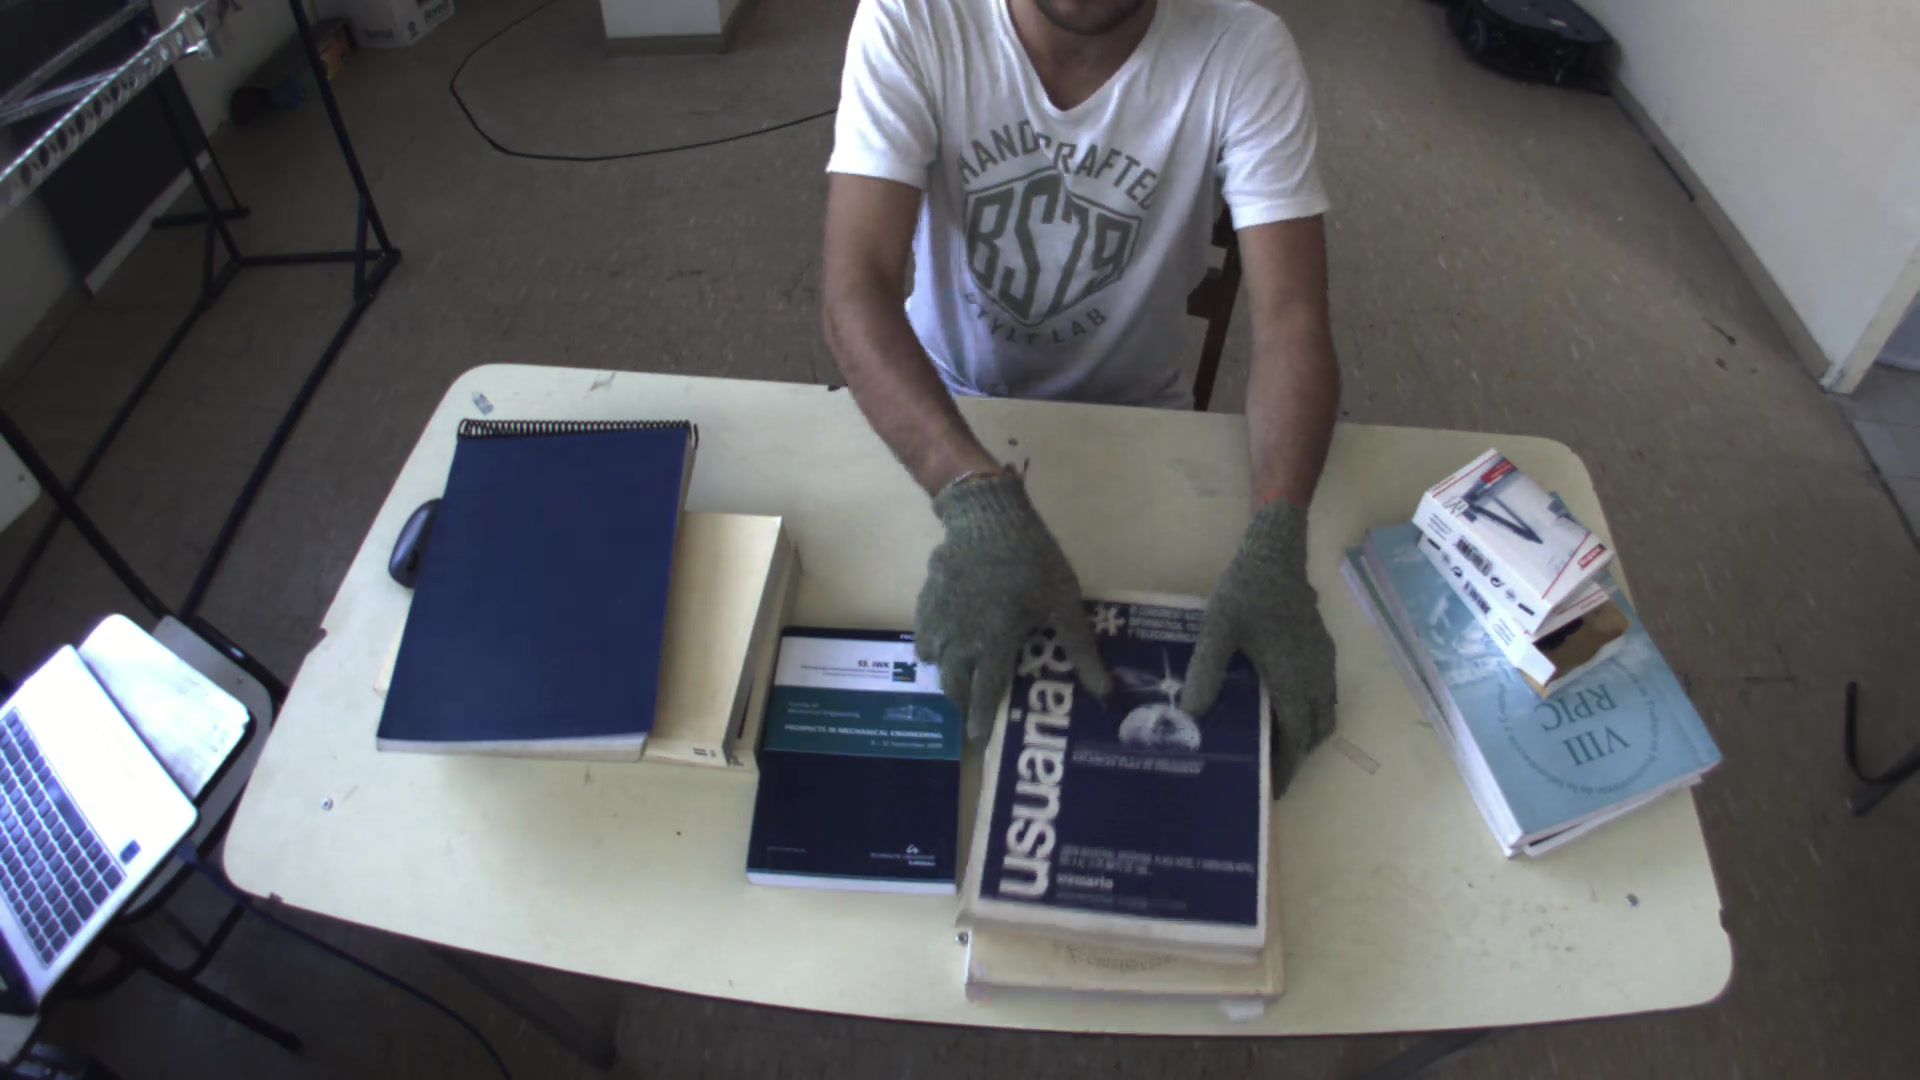hand: (909, 454, 1118, 738), (1179, 492, 1349, 764)
